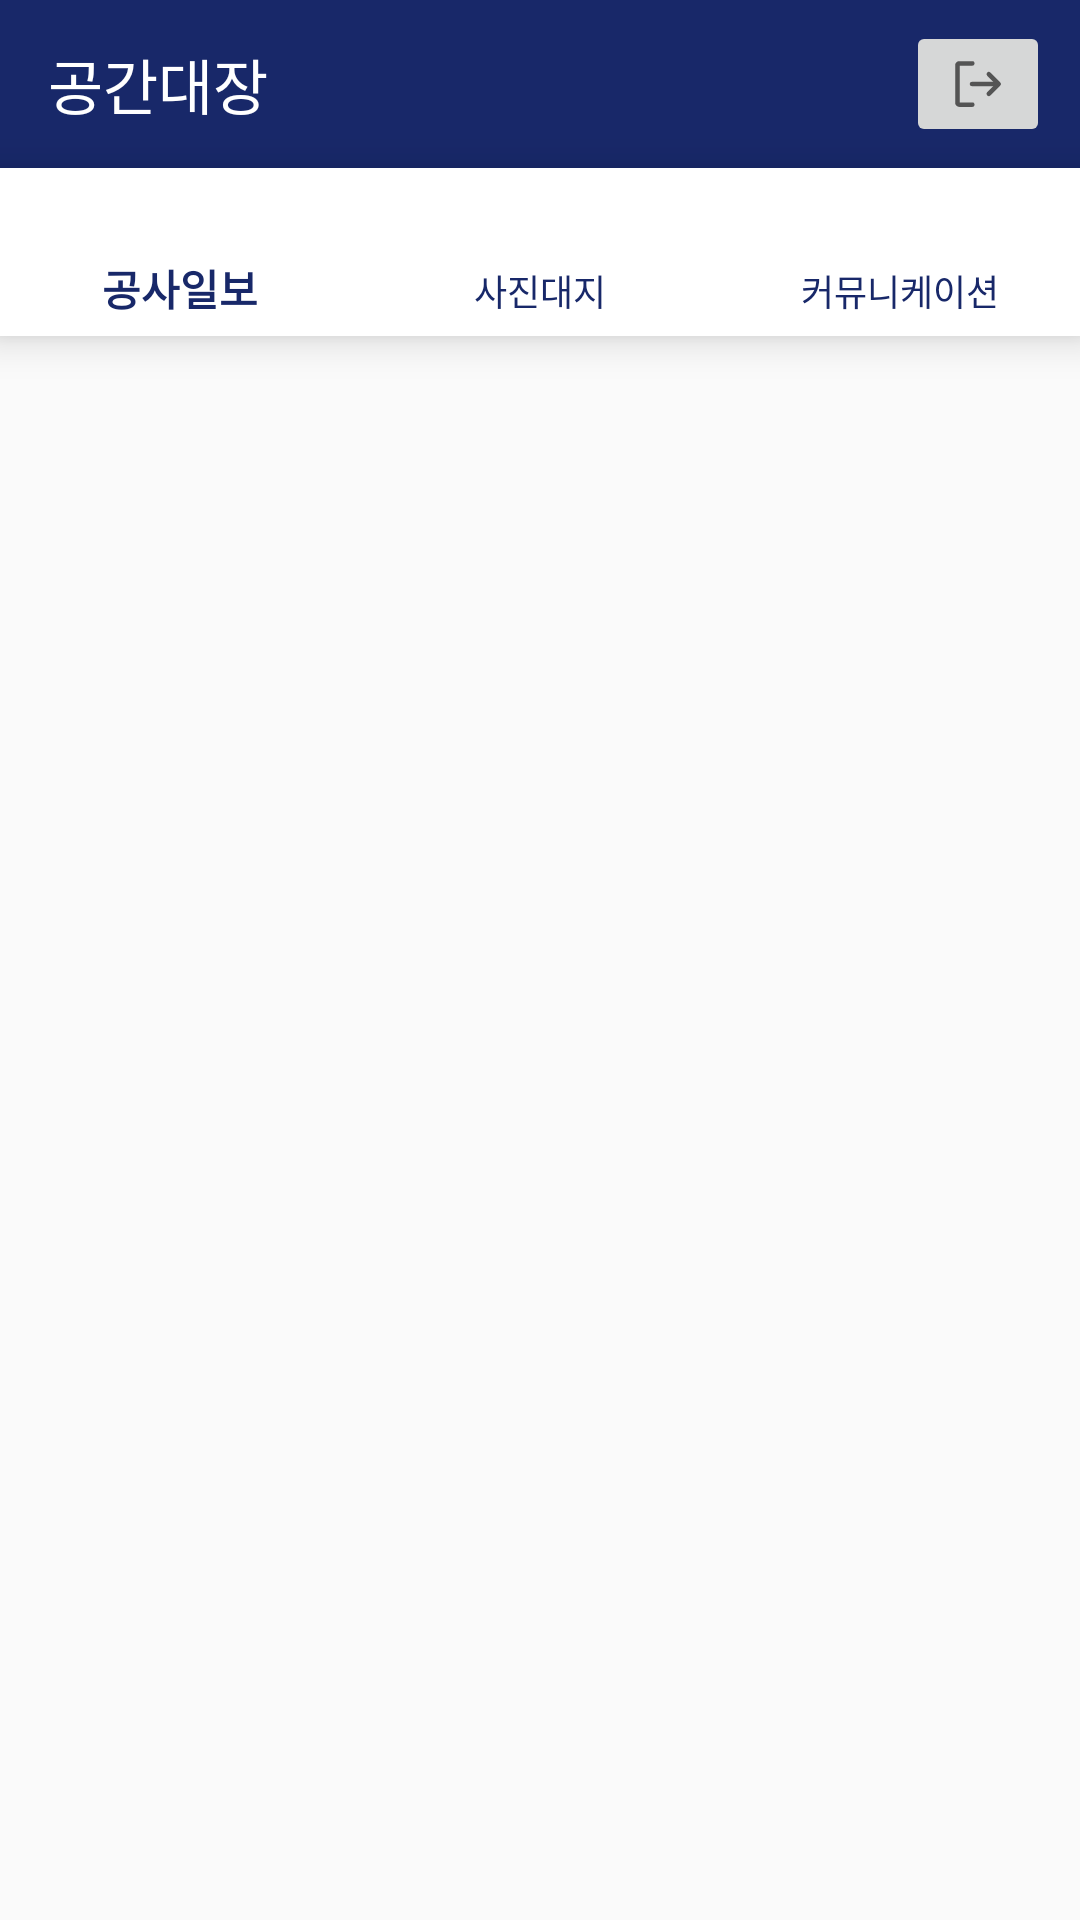

Named icons in this screenshot (1080px x 1920px) and their bounding boxes, {"left": x1, "top": y1, "right": x2, "bottom": y2}:
out: {"left": 918, "top": 39, "right": 1038, "bottom": 129}
